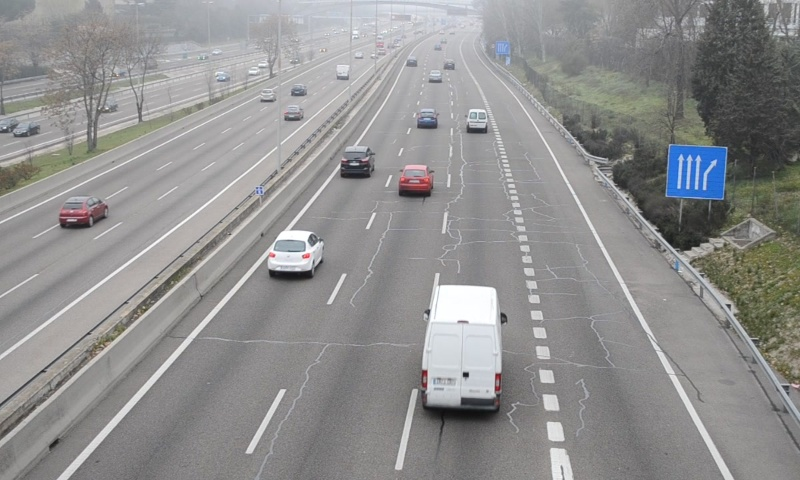car: (267, 230, 324, 272), (340, 146, 374, 178), (400, 164, 432, 195), (416, 108, 438, 128)
van: (421, 284, 500, 410), (466, 108, 489, 133)
